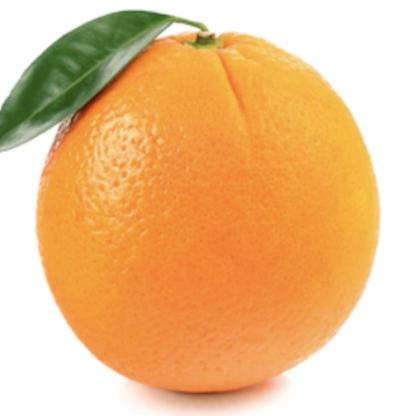fresh: (34, 31, 380, 395)
